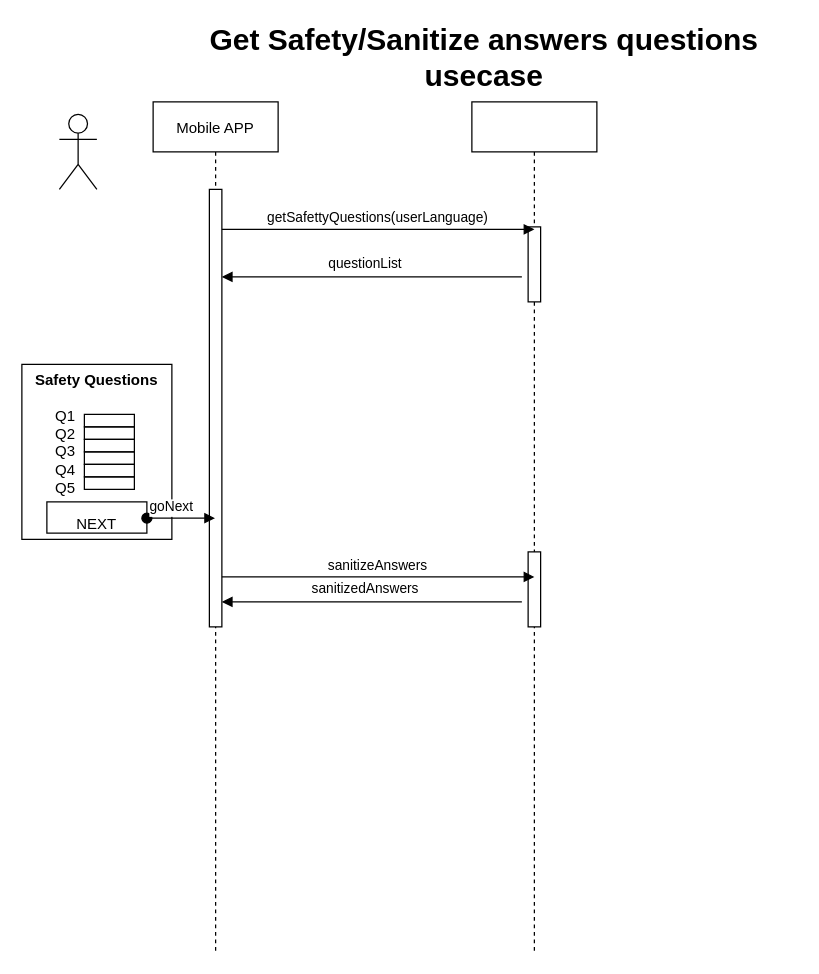
Image size: 819x974. Some labels were removed from this diagram. Here are the shapes that lost their labels. From the top down, the centre of each, then its label:
At (x=77, y=151): "Migrant".
At (x=534, y=526): "Keypair lib".
